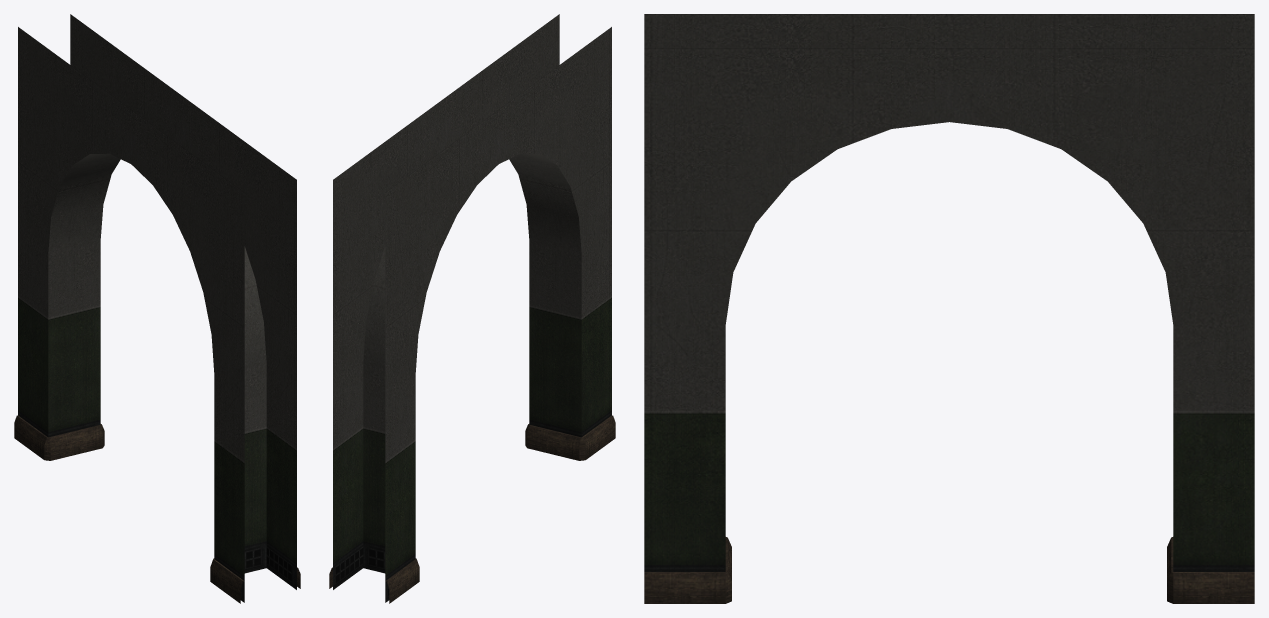
File: arc_2_wall_2_1.obj
3 renders of one model, left to right at view 1: azimuth 30°, elevation 25°; view 2: azimuth 150°, elevation 25°; view 3: azimuth 270°, elevation 25°, orthographic. The views are drawn at different scales.
Visible parts, largest first — view 1: arc_2_wall_2_1; view 2: arc_2_wall_2_1; view 3: arc_2_wall_2_1.
Part boxes in pixels (left/top/right/bottom): arc_2_wall_2_1: left=14, top=14, right=300, bottom=603; arc_2_wall_2_1: left=329, top=14, right=615, bottom=603; arc_2_wall_2_1: left=644, top=14, right=1254, bottom=603.
Bounding box in the file's own units: 0.46 × 3 × 3.
